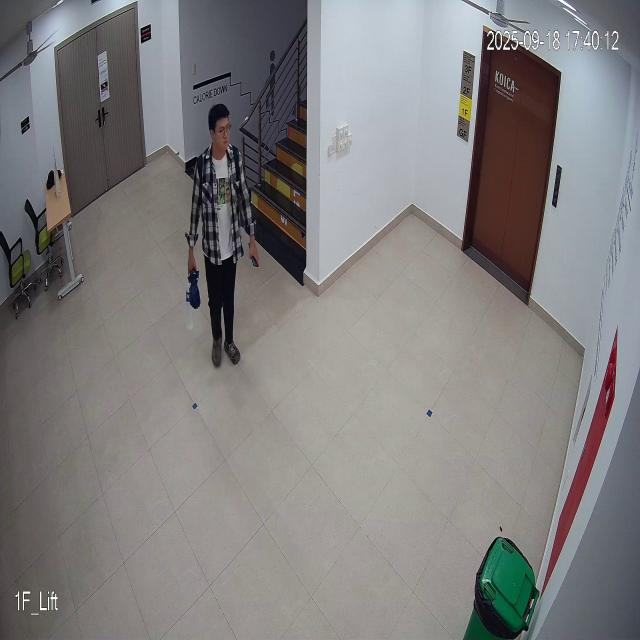face: (206, 102, 233, 153)
